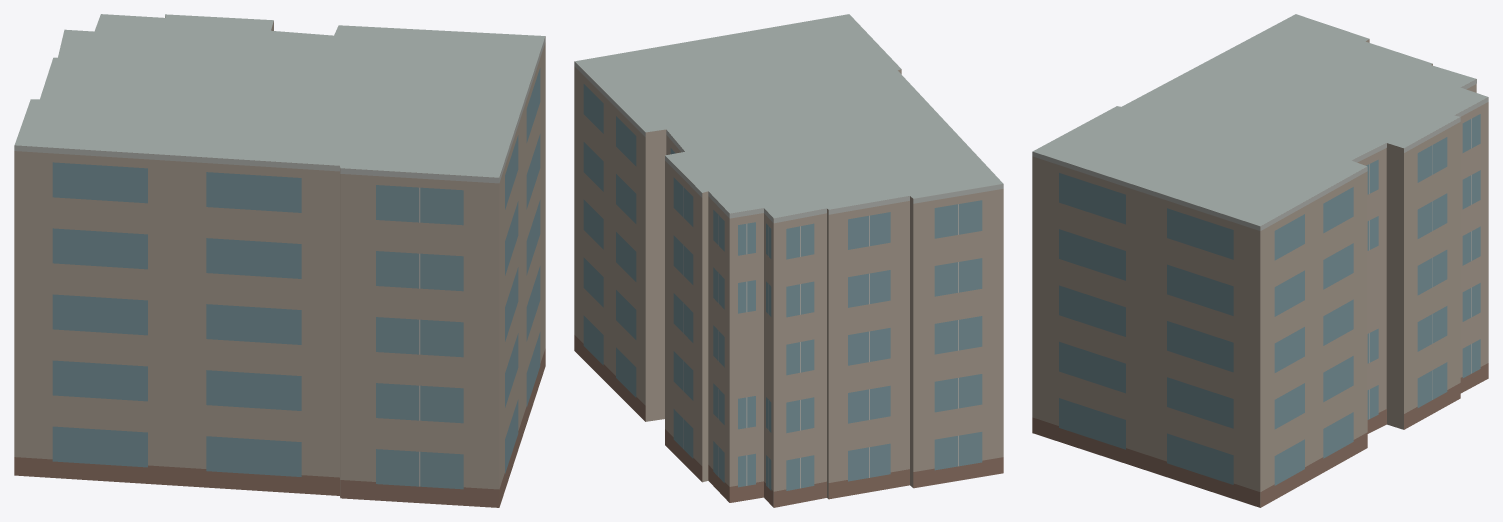
File: survey-upis-32608962.glb
3 views of the same model, side by side, from view 1: azimuth 30°, elevation 25°; view 2: azimuth 150°, elevation 25°; view 3: azimuth 270°, elevation 25° (orthographic). The views are drawn at different scales.
Visible parts, largest first — view 1: survey-upis-32608962.tmp; view 2: survey-upis-32608962.tmp; view 3: survey-upis-32608962.tmp.
Boxes of the visible parts, x1,y1,x2,y2 form: survey-upis-32608962.tmp: (14, 14, 545, 507); survey-upis-32608962.tmp: (574, 14, 1003, 507); survey-upis-32608962.tmp: (1032, 14, 1488, 507).
Bounding box in the file's own units: 22.98 × 14.2 × 20.86.
